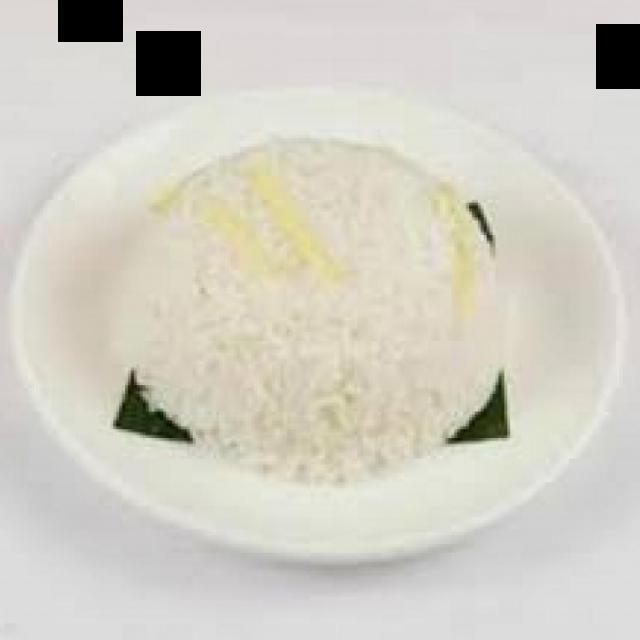rice: (124, 134, 504, 484)
